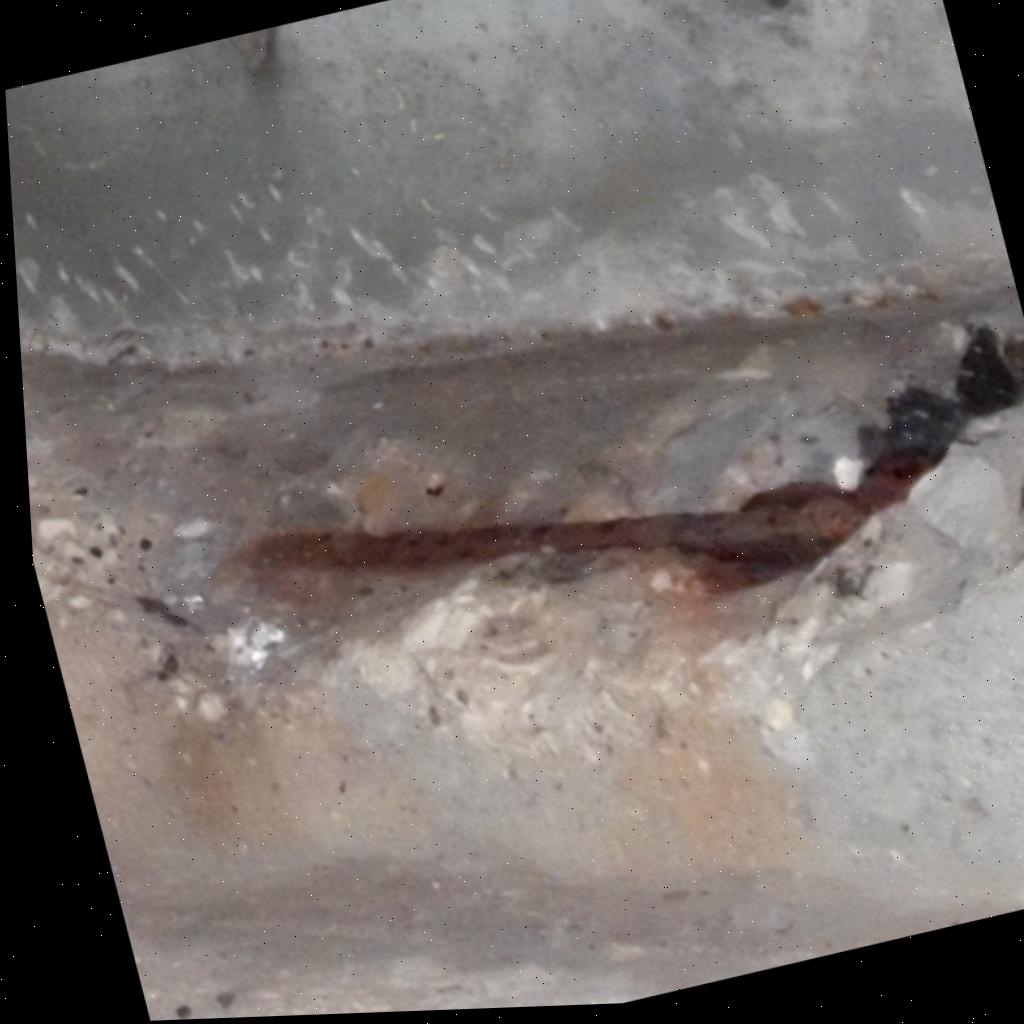exposed_rebar: (238, 484, 873, 571)
